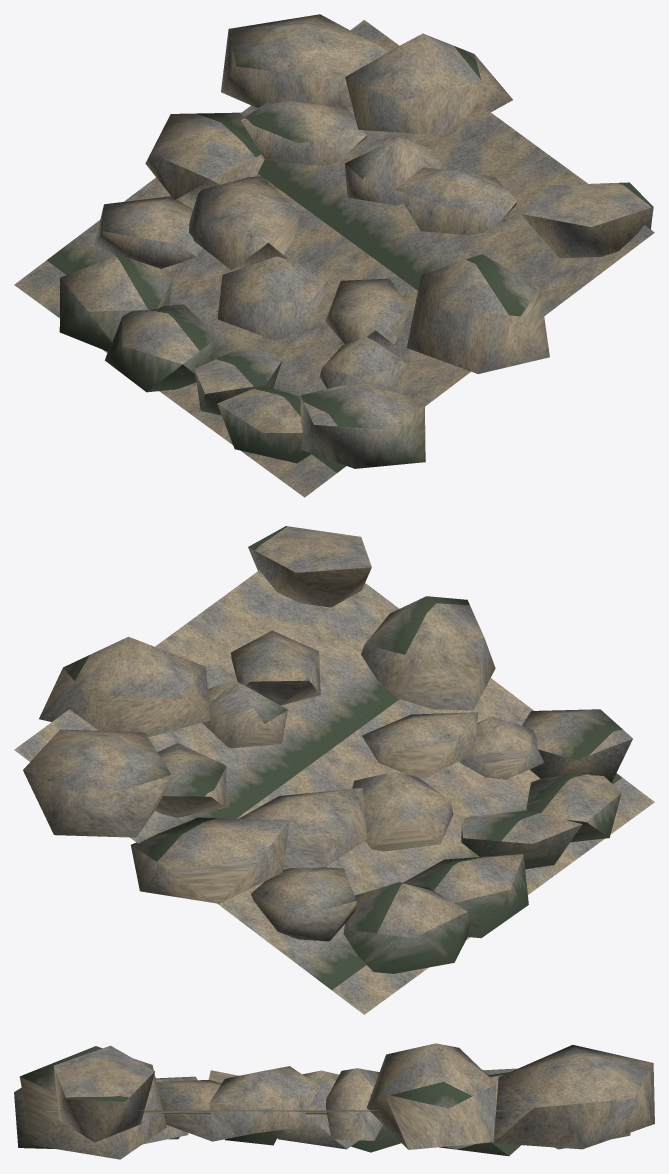
File: SM_Molo_Scogliera_C_v2_LOD1.fbx
3 renders of one model, top to bottom at view 1: azimuth 30°, elevation 25°; view 2: azimuth 150°, elevation 25°; view 3: azimuth 270°, elevation 25°, orthographic. The views are drawn at different scales.
Visible parts, largest first — view 1: SM_Molo_Scogliera_C_v2_LOD1; view 2: SM_Molo_Scogliera_C_v2_LOD1; view 3: SM_Molo_Scogliera_C_v2_LOD1.
Boxes of the visible parts, x1,y1,x2,y2 form: SM_Molo_Scogliera_C_v2_LOD1: (14,14,654,497); SM_Molo_Scogliera_C_v2_LOD1: (14,526,654,1014); SM_Molo_Scogliera_C_v2_LOD1: (14,1043,654,1159).
Bounding box in the file's own units: 686 × 951 × 368.
1 material, 1 textured.
